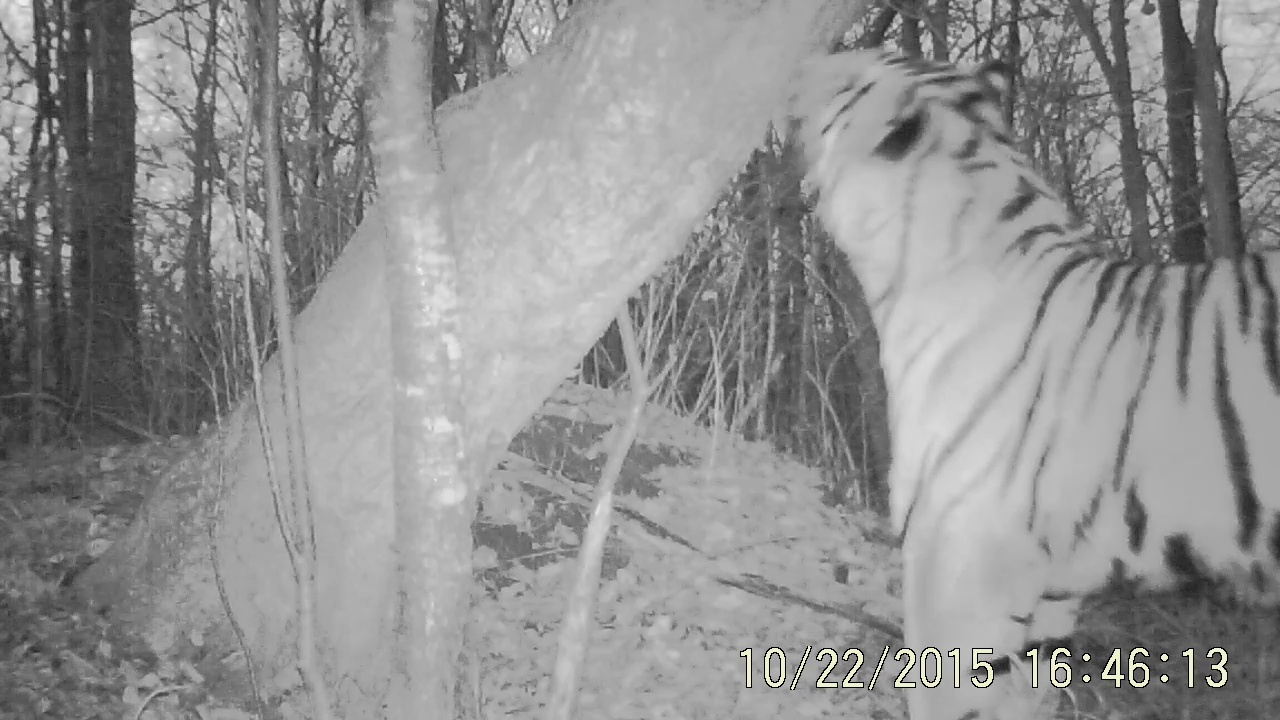Tiger: (776, 25, 1278, 628)
